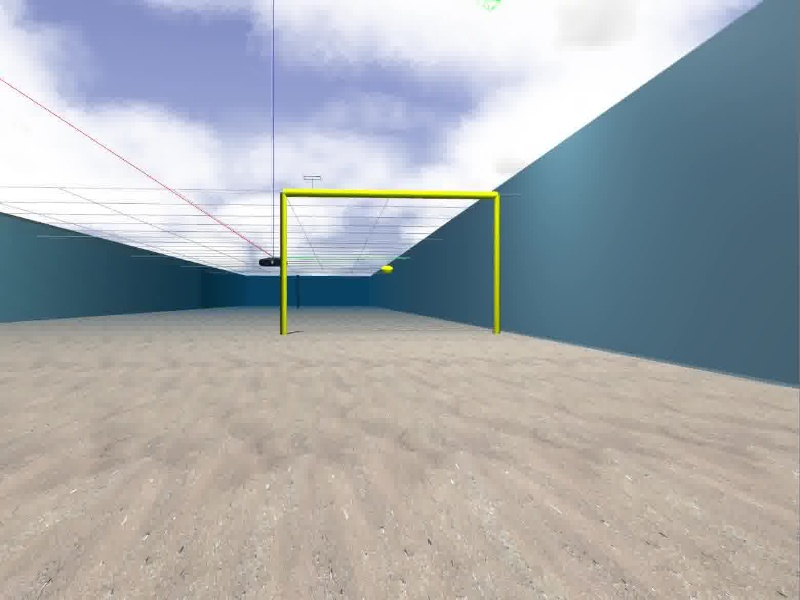gate: (279, 188, 502, 335)
